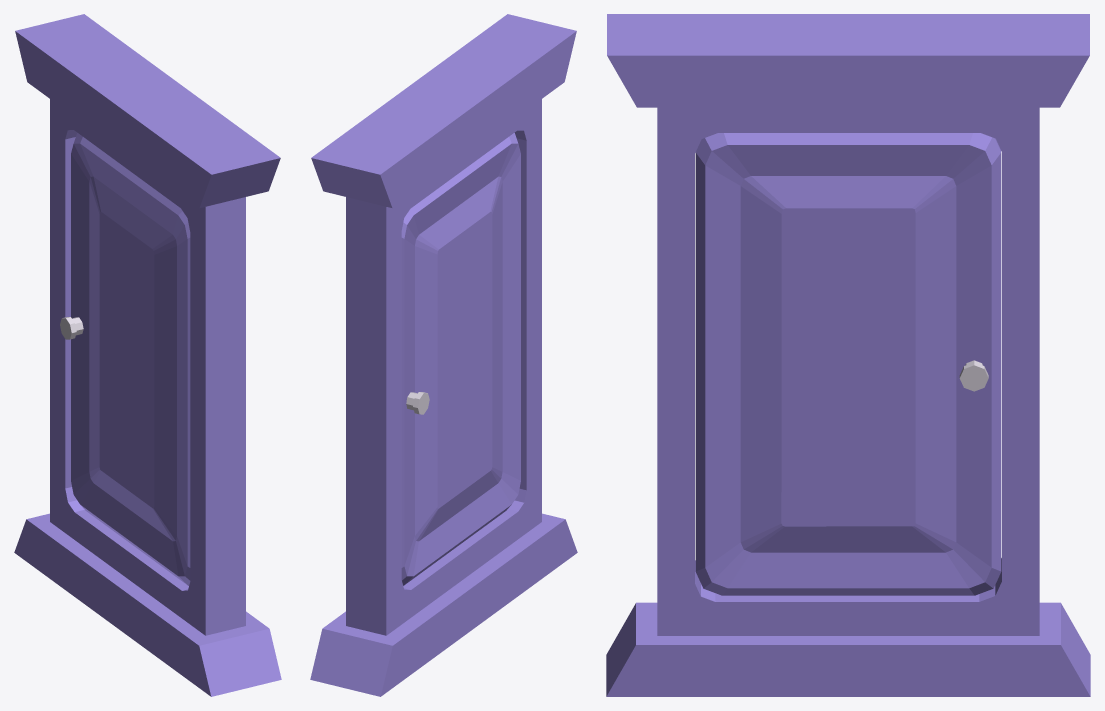
The model's file is Env_Pintu_01a.fbx.
3 renders of one model, left to right at view 1: azimuth 30°, elevation 25°; view 2: azimuth 150°, elevation 25°; view 3: azimuth 270°, elevation 25°, orthographic. The views are drawn at different scales.
Parts seen in each view (by area): view 1: Pintu Tutup; view 2: Pintu Tutup; view 3: Pintu Tutup.
Part boxes in pixels (<box>): Pintu Tutup: <box>14,14,281,696</box>; Pintu Tutup: <box>310,14,577,696</box>; Pintu Tutup: <box>606,14,1090,696</box>.
Bounding box in the file's own units: 52.27 × 370 × 253.
